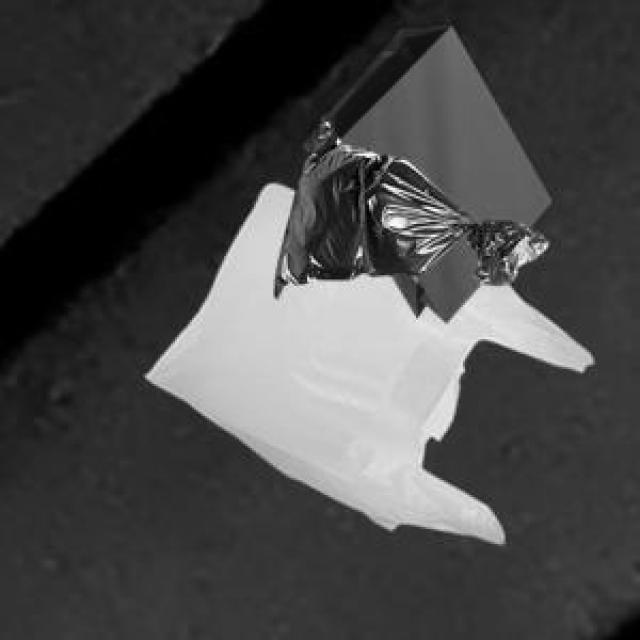miscellaneous trash: (272, 111, 544, 294)
paper: (301, 21, 546, 318)
